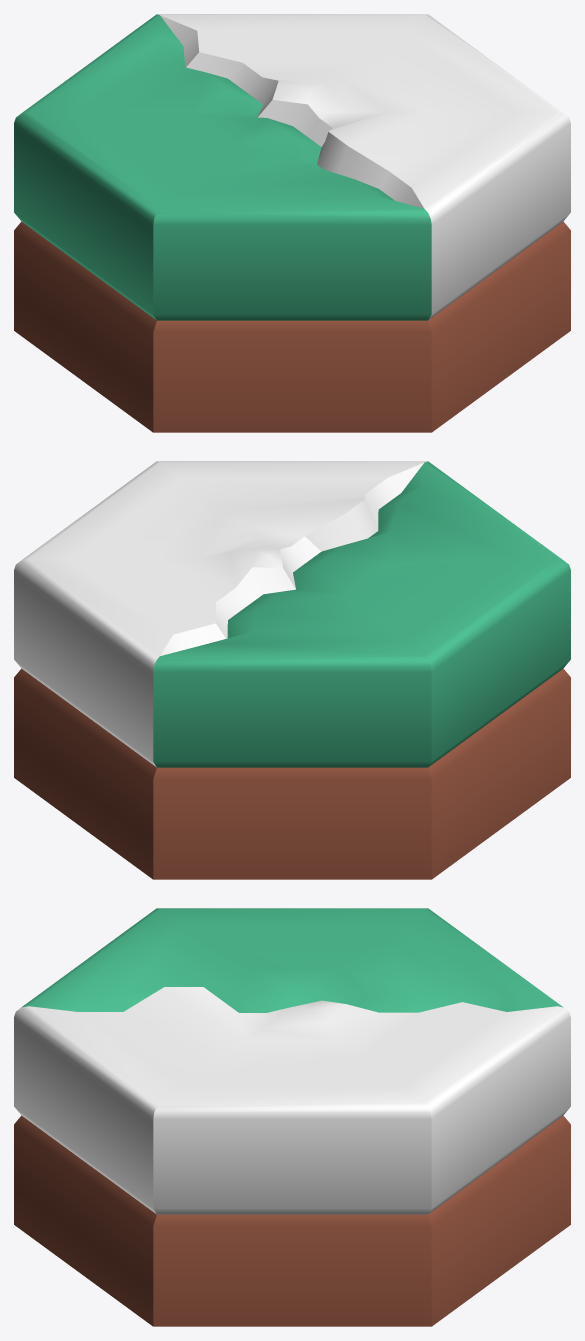
File: hex_forest_transitionB.glb
3 views of the same model, one above another, from view 1: azimuth 30°, elevation 25°; view 2: azimuth 150°, elevation 25°; view 3: azimuth 270°, elevation 25° (orthographic).
Visible parts, largest first — view 1: hex_forest_transitionB; view 2: hex_forest_transitionB; view 3: hex_forest_transitionB.
Part boxes in pixels (bbox=[...]): hex_forest_transitionB: bbox=[14, 14, 570, 432]; hex_forest_transitionB: bbox=[14, 461, 570, 879]; hex_forest_transitionB: bbox=[14, 908, 570, 1326].
Bounding box in the file's own units: 3.82 × 2.04 × 4.41.
